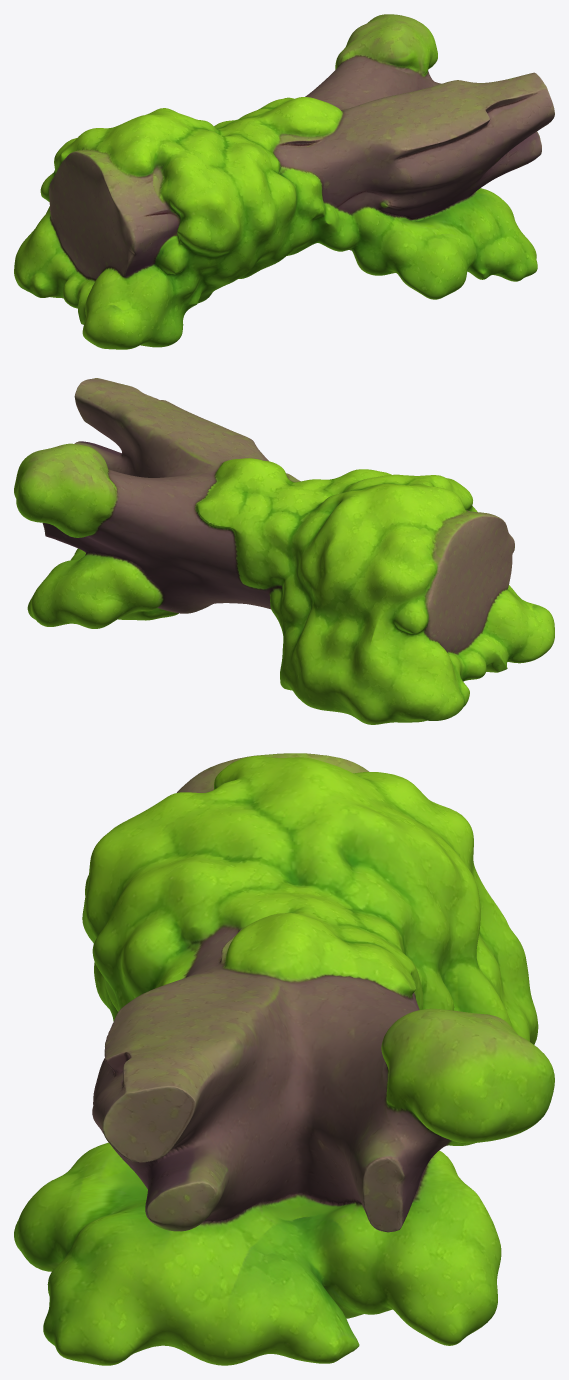
File: altitude_tronco.glb
3 renders of one model, top to bottom at view 1: azimuth 30°, elevation 25°; view 2: azimuth 150°, elevation 25°; view 3: azimuth 270°, elevation 25°, orthographic. The views are drawn at different scales.
Bounding box in the file's own units: 1.89 × 0.7349 × 1.1.
1 material, 1 textured.
